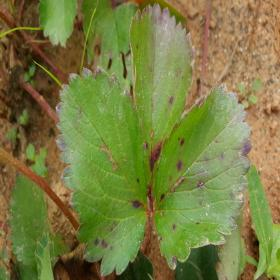Leaf Spot: (54, 64, 148, 278), (151, 81, 253, 270), (129, 1, 195, 209)
